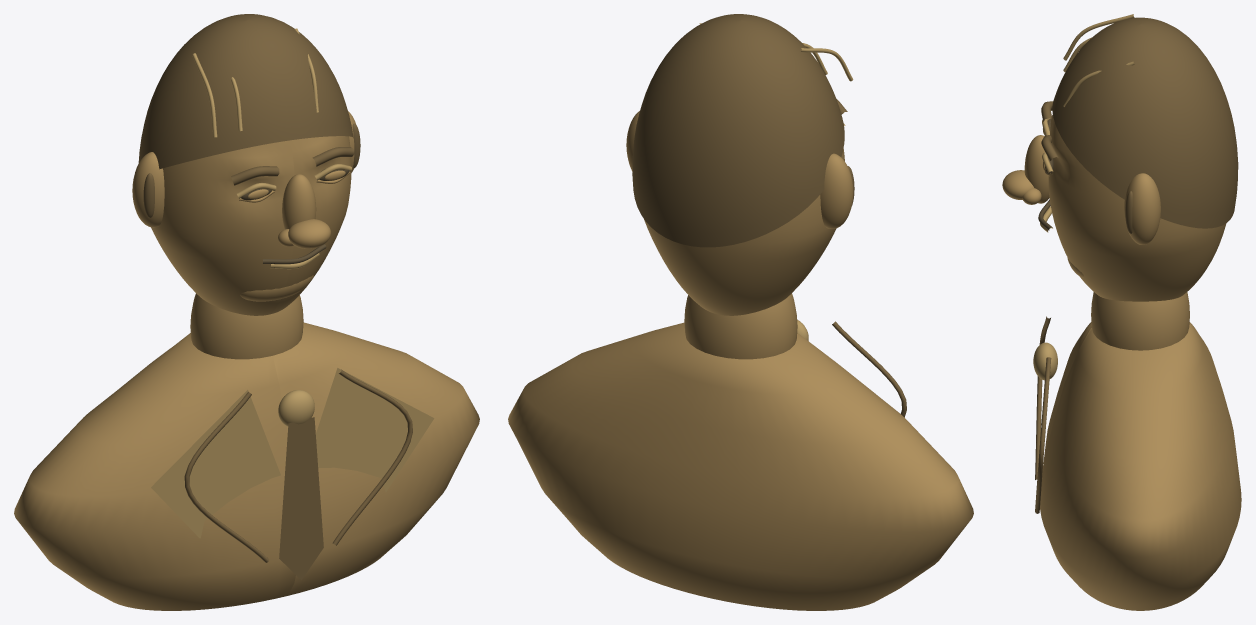
Rendered from bolsonaro.glb.
The picture shows the model from 3 angles, left to right: view 1: azimuth 30°, elevation 25°; view 2: azimuth 150°, elevation 25°; view 3: azimuth 270°, elevation 25°; orthographic projection. The views are drawn at different scales.
Visible parts, largest first — view 1: bolsonaro; view 2: bolsonaro; view 3: bolsonaro.
Part boxes in pixels (x1,y1,x2,y2): bolsonaro: (14, 14, 479, 610); bolsonaro: (508, 14, 973, 610); bolsonaro: (1002, 14, 1241, 610).
Bounding box in the file's own units: 1.22 × 1.4 × 0.58.
